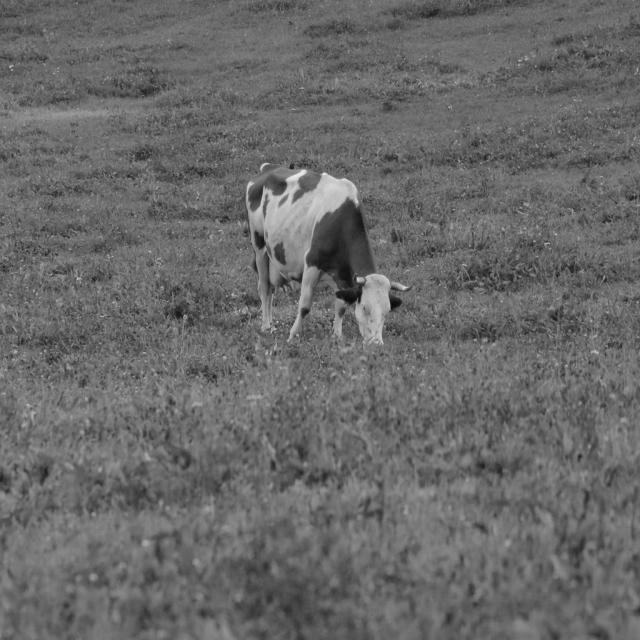cow: (245, 164, 408, 344)
